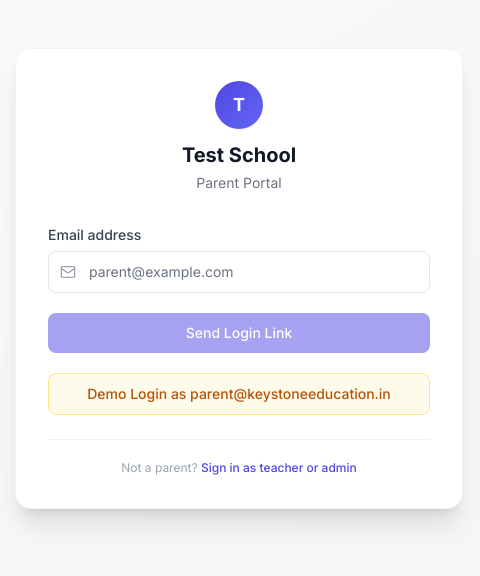
ParentLoginPage › demo login › shows error message when demo login fails
This screenshot has width=480, height=576.
Click the button "Demo Login as parent@keystoneeducation.in" at (239, 394), box [48,372,430,414]
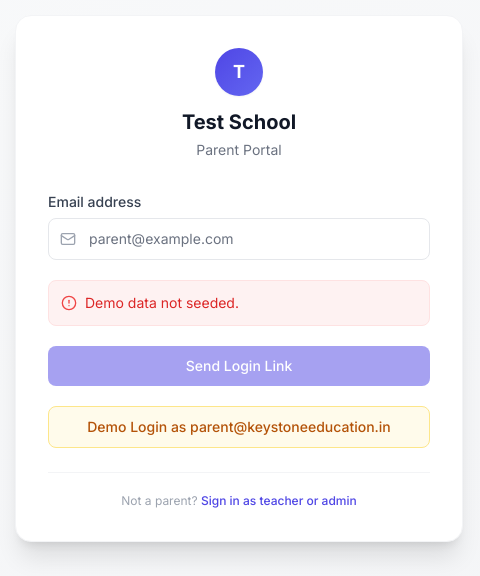
Expected: the text "Demo data not seeded." is shown, [85,292,239,312]
